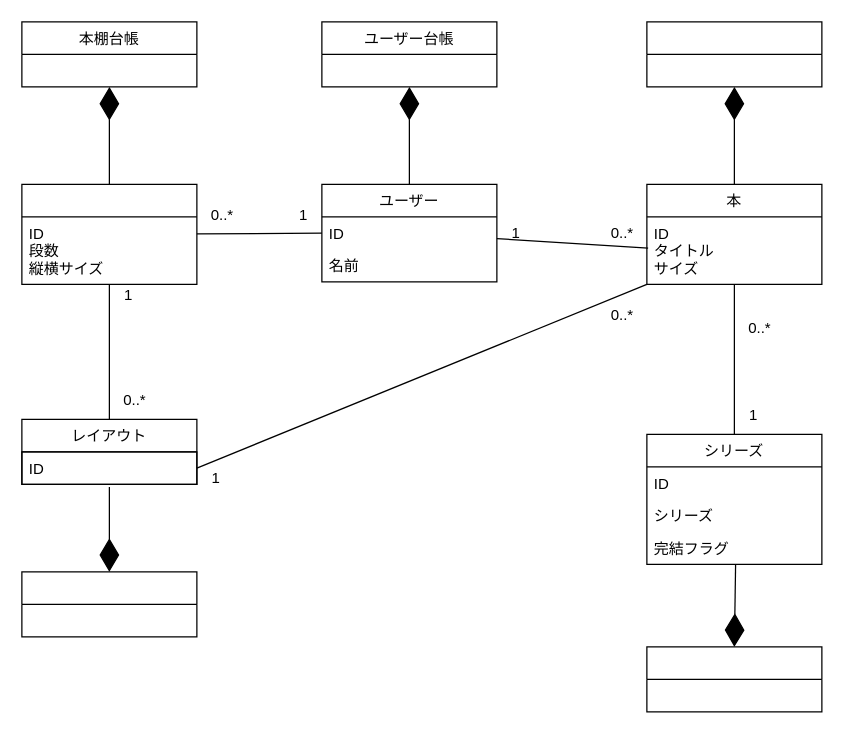
Some shapes in this 844 by 734 pixel diagram are drawn without their labels. The shapes that lost their labels are listed below. From the top down, each one's box as (x1, y1, x2, y2) in pixels, then its label:
(646, 21, 822, 87): 本台帳
(21, 183, 197, 284): 本棚
(21, 571, 197, 637): レイアウト台帳
(646, 646, 822, 712): シリーズ台帳
